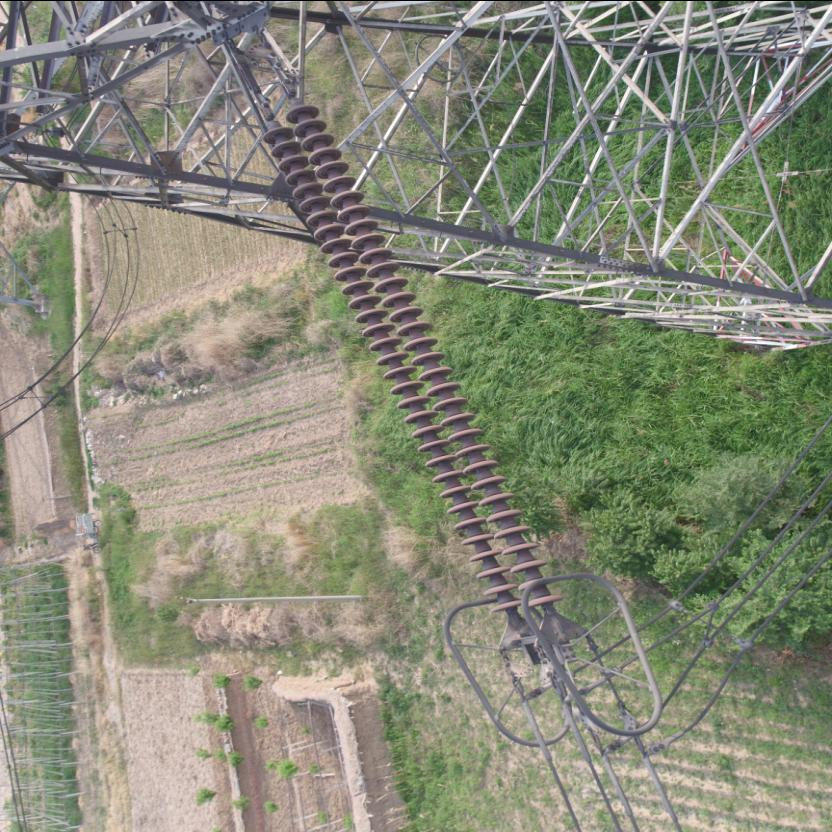insulator: (251, 79, 568, 626)
